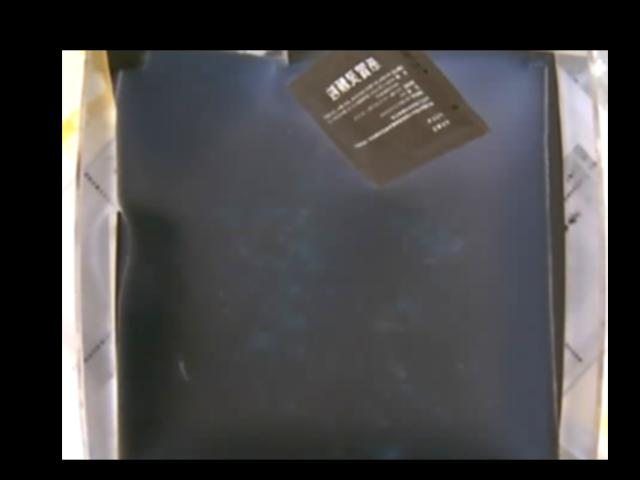Medicine: (286, 51, 489, 189)
